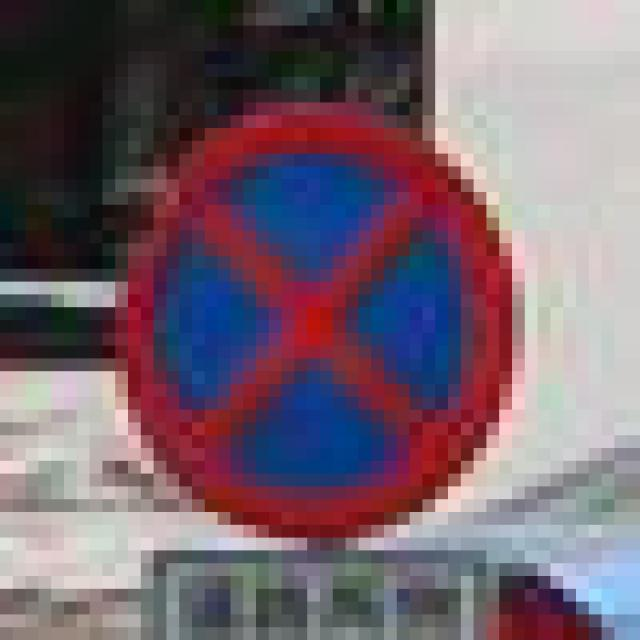NO_STOPPING_OR_STANDING: (102, 90, 500, 524)
